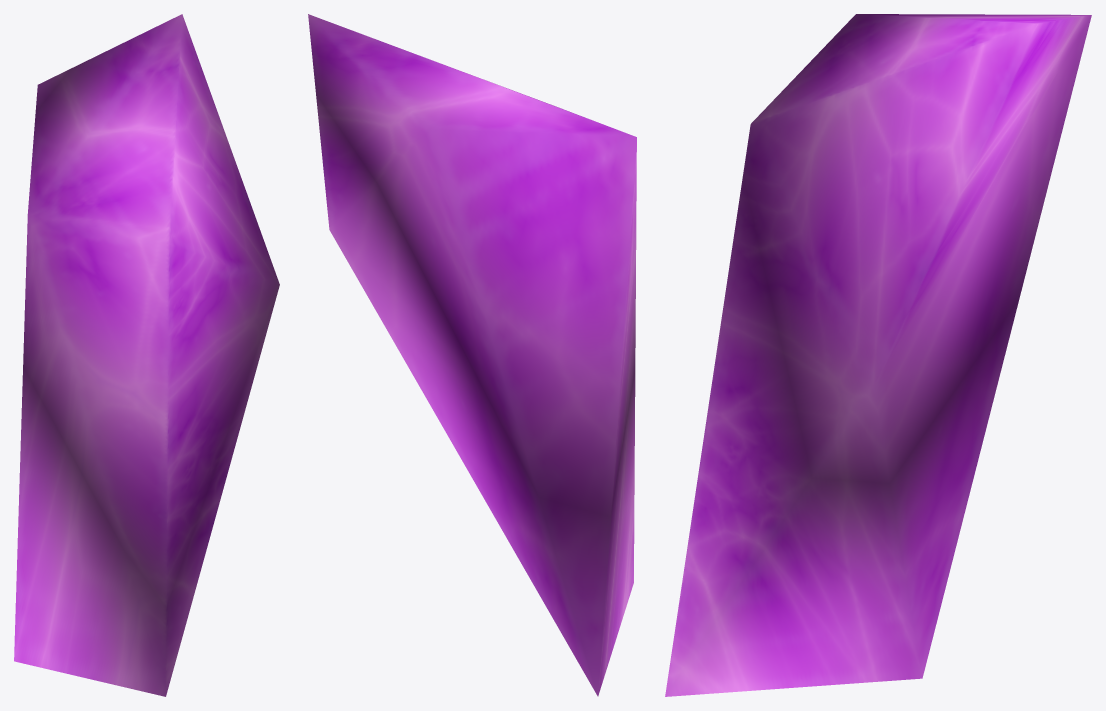
The model's file is CursedParticleLP.fbx.
3 views of the same model, side by side, from view 1: azimuth 30°, elevation 25°; view 2: azimuth 150°, elevation 25°; view 3: azimuth 270°, elevation 25° (orthographic). The views are drawn at different scales.
Parts seen in each view (by area): view 1: CursedParticle.021; view 2: CursedParticle.021; view 3: CursedParticle.021.
Boxes of the visible parts, <box> form: CursedParticle.021: <box>14,14,279,696</box>; CursedParticle.021: <box>308,14,636,696</box>; CursedParticle.021: <box>665,14,1091,696</box>.
Size of the model in its own units: 105 by 221 by 107.
